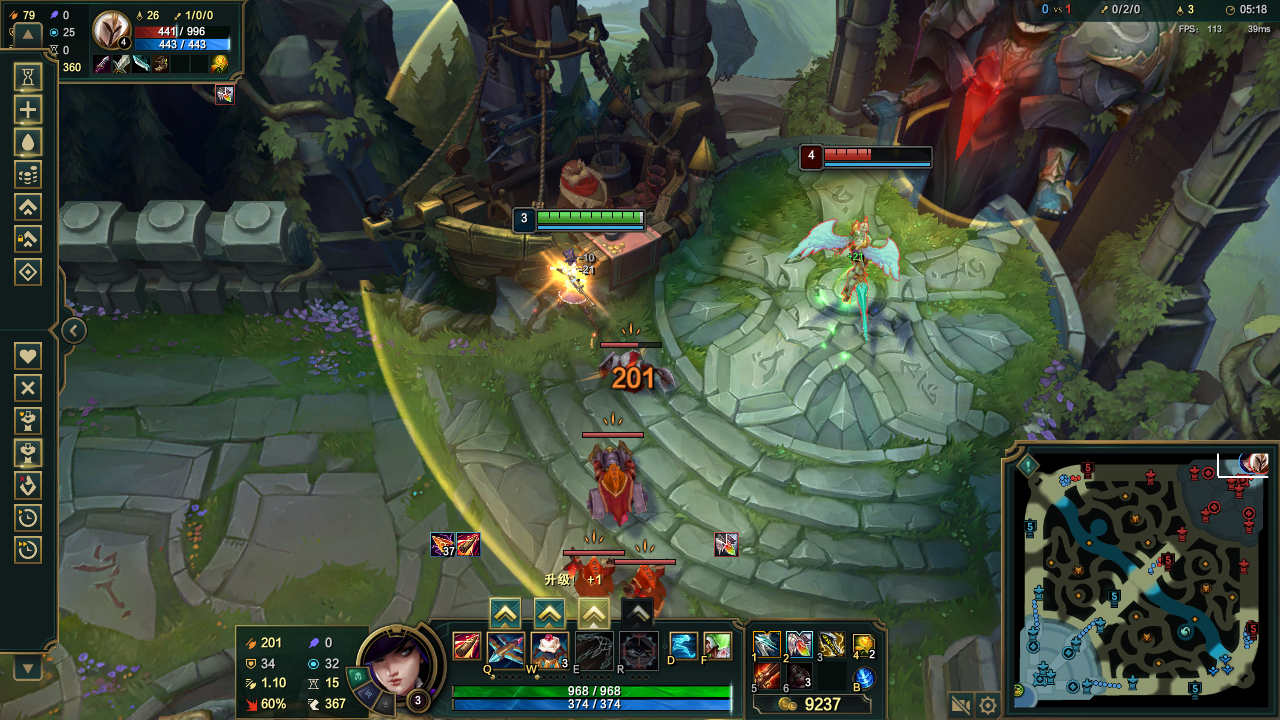DFYX: (820, 145, 929, 161)
